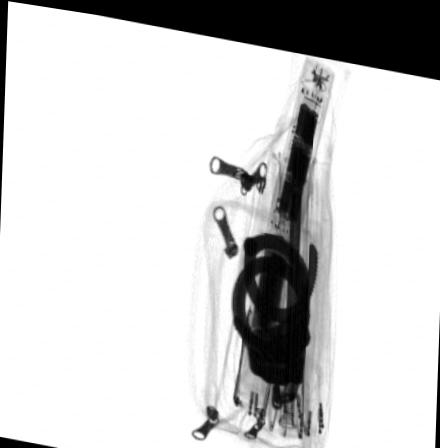Baton: (229, 45, 335, 414)
HandCuffs: (230, 221, 318, 403)
